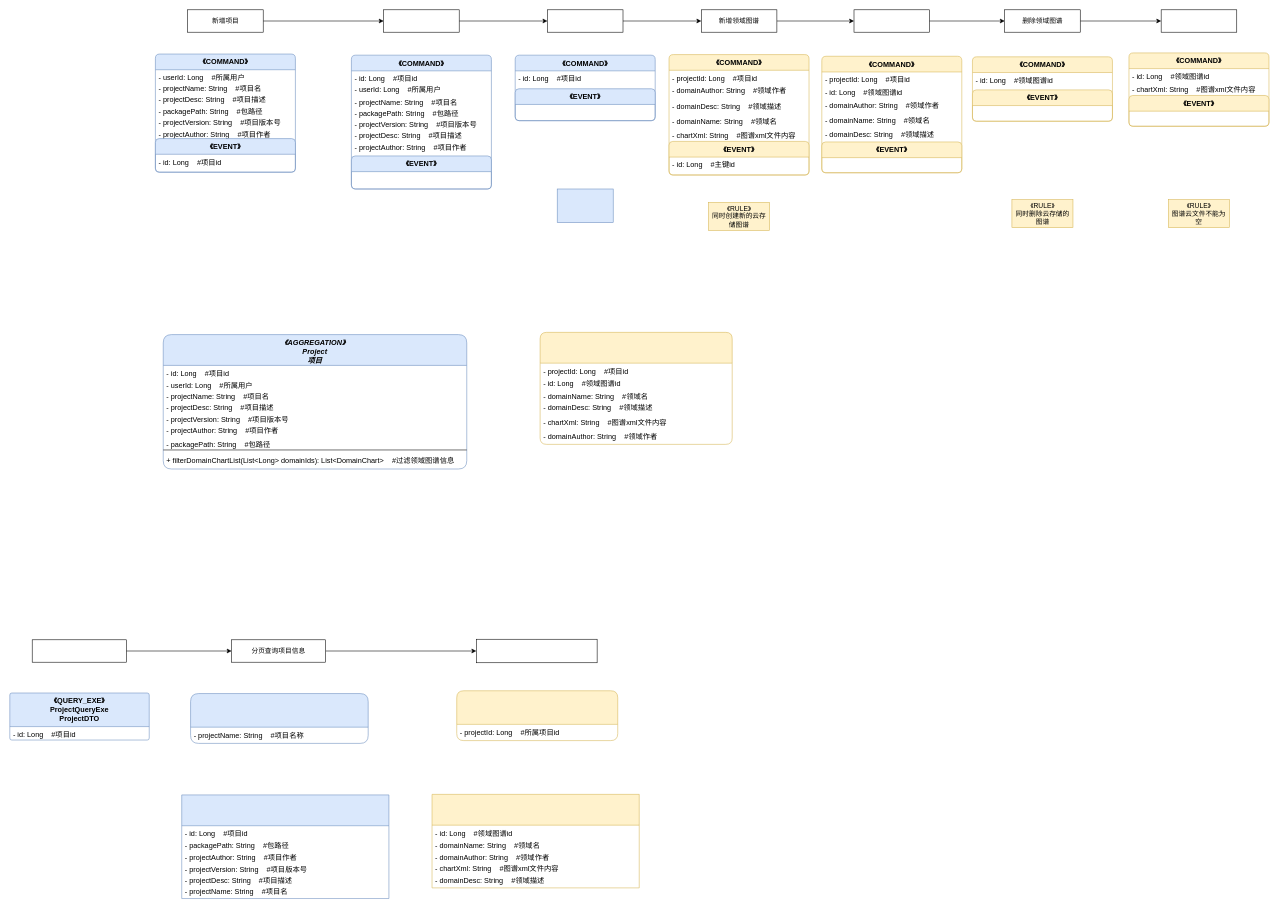
This 1279x910 diagram has some shape labels left out. The box of each missing label's shape, as (x1, y1, x2, y2) in pixels:
《AGGREGATION》 DomainChart 领域图谱: (540, 332, 732, 444)
《PAGE_QUERY_EXE》 DomainChartPageQueryExe DomainChartDTO: (456, 690, 618, 741)
《PAGE_QUERY_EXE》 ProjectPageQueryExe ProjectDTO: (190, 693, 368, 743)
《QUERY_RESULT》 DomainChartDTO 领域图谱: (431, 794, 639, 888)
《QUERY_RESULT》 ProjectDTO 项目: (181, 794, 389, 899)
《RULE》 同时删除项目下的领域图谱: (557, 188, 613, 223)
分页查询项目下的领域图谱信息: (476, 639, 597, 663)
删除项目: (547, 9, 623, 32)
更新图谱云文件: (1161, 9, 1237, 32)
更新项目: (383, 9, 459, 32)
更新领域图谱: (853, 9, 930, 32)
查询项目详情: (32, 639, 126, 662)
